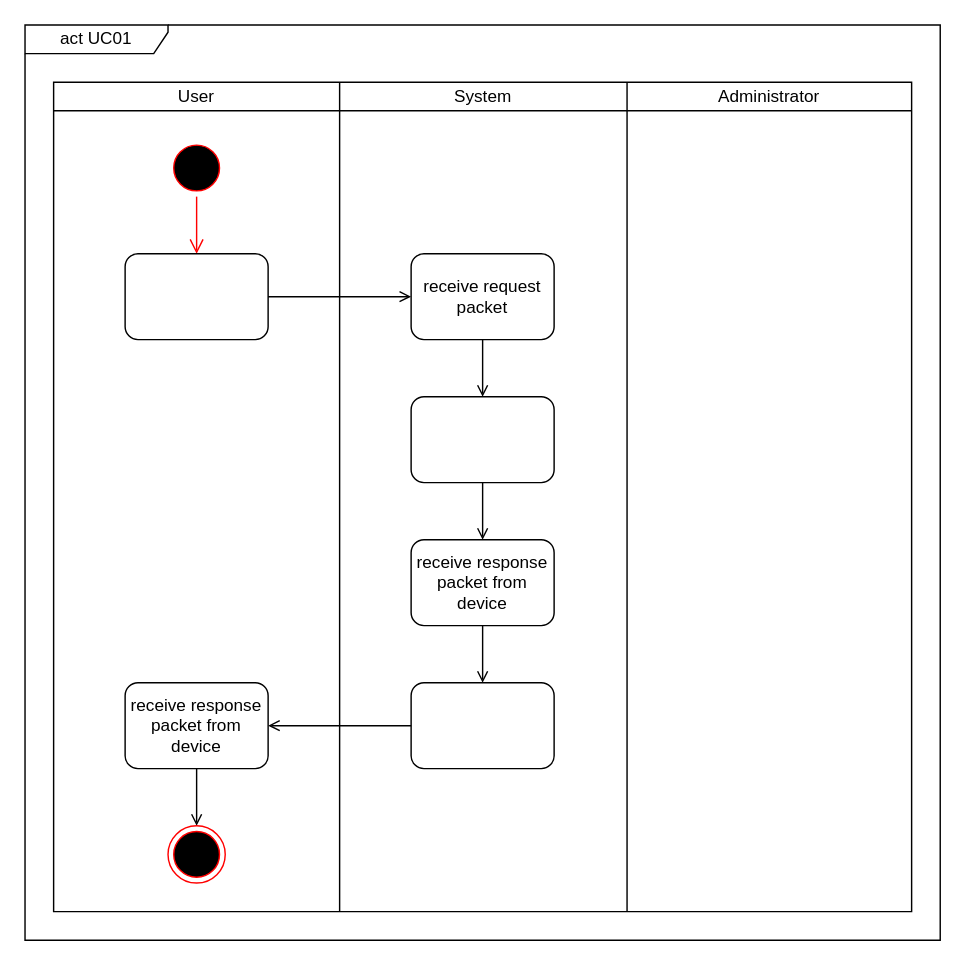
The diagram is 965 pixels wide and 965 high, and some of its shapes have lost their labels. Here are the shapes that lost their labels. From the top down, the box of each, then its label:
(124, 252, 268, 340): send request packet to a device
(410, 395, 554, 483): forward request packet to appropriate device
(410, 681, 554, 769): forward response packet to appropriate device
